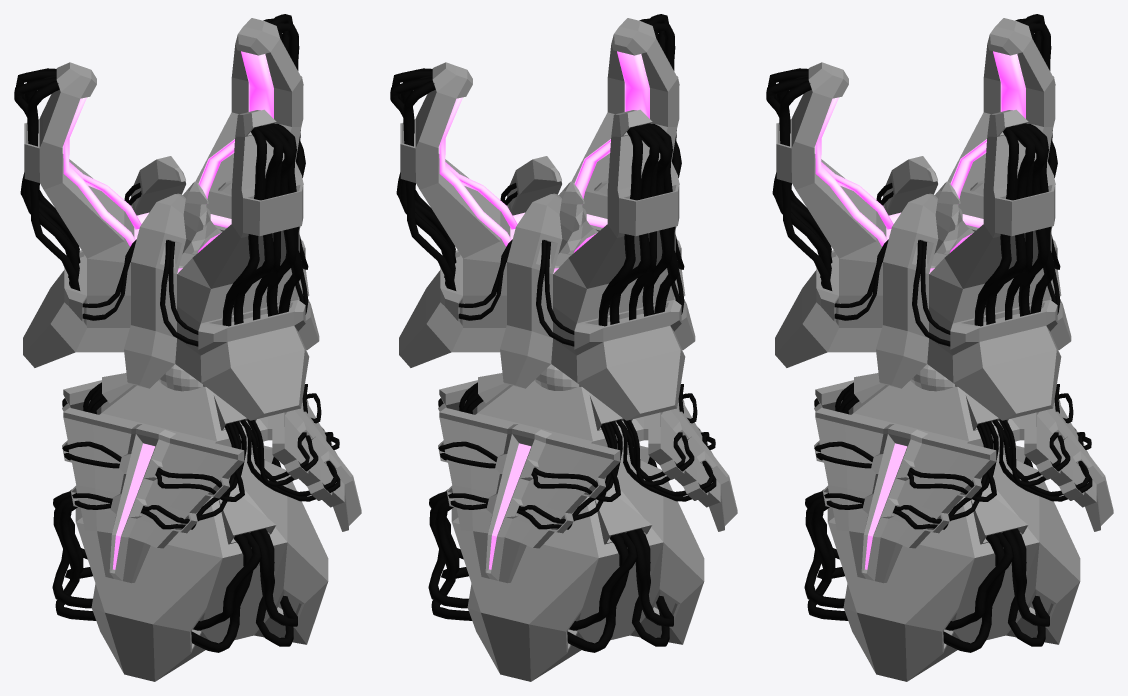
File: Worm.fbx
The picture shows the model from 3 angles, left to right: view 1: azimuth 30°, elevation 25°; view 2: azimuth 150°, elevation 25°; view 3: azimuth 270°, elevation 25°; orthographic projection.
Visible parts, largest first — view 1: Head, Segement, Tail, HeadCable, TailCables, SegmentCables, HeadHighlight, SegmentHighlight, Sphere; view 2: Head, Segement, Tail, HeadCable, TailCables, SegmentCables, HeadHighlight, SegmentHighlight, Sphere; view 3: Head, Segement, Tail, HeadCable, TailCables, SegmentCables, HeadHighlight, SegmentHighlight, Sphere.
Boxes of the visible parts, left/top/right/bottom form: Head: left=23, top=18, right=319, bottom=420; Segement: left=62, top=373, right=361, bottom=583; Tail: left=75, top=444, right=328, bottom=681; HeadCable: left=14, top=14, right=308, bottom=346; TailCables: left=52, top=456, right=297, bottom=652; SegmentCables: left=62, top=382, right=340, bottom=529; HeadHighlight: left=63, top=51, right=273, bottom=273; SegmentHighlight: left=113, top=443, right=155, bottom=569; Sphere: left=158, top=364, right=202, bottom=391; Head: left=399, top=18, right=695, bottom=420; Segement: left=438, top=373, right=737, bottom=583; Tail: left=451, top=444, right=704, bottom=681; HeadCable: left=390, top=14, right=684, bottom=346; TailCables: left=428, top=456, right=673, bottom=652; SegmentCables: left=438, top=382, right=716, bottom=529; HeadHighlight: left=439, top=51, right=649, bottom=273; SegmentHighlight: left=489, top=443, right=531, bottom=569; Sphere: left=534, top=364, right=579, bottom=390; Head: left=775, top=18, right=1071, bottom=420; Segement: left=814, top=373, right=1113, bottom=583; Tail: left=827, top=444, right=1080, bottom=681; HeadCable: left=766, top=14, right=1060, bottom=346; TailCables: left=804, top=456, right=1049, bottom=652; SegmentCables: left=814, top=382, right=1092, bottom=529; HeadHighlight: left=815, top=51, right=1025, bottom=273; SegmentHighlight: left=865, top=443, right=907, bottom=569; Sphere: left=910, top=364, right=954, bottom=391.
Bounding box in the file's own units: 263 × 517 × 285.
